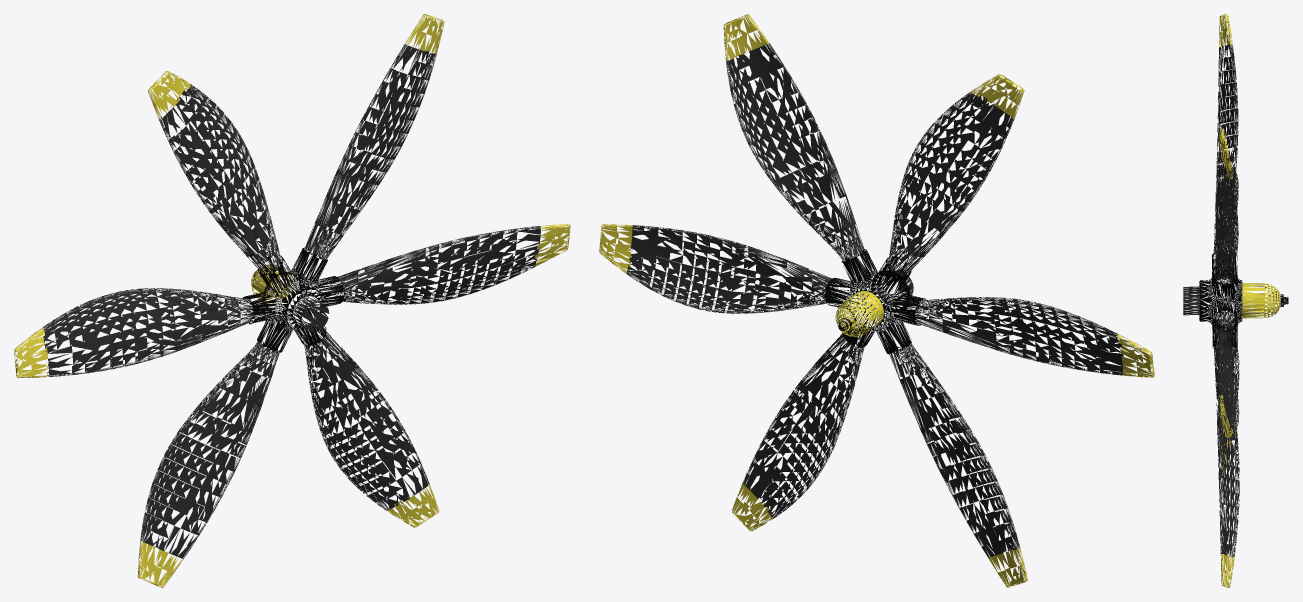
Rendered from propeller.gltf.
3 views of the same model, side by side, from view 1: azimuth 30°, elevation 25°; view 2: azimuth 150°, elevation 25°; view 3: azimuth 270°, elevation 25° (orthographic). The views are drawn at different scales.
Visible parts, largest first — view 1: Propeller from airboat; view 2: Propeller from airboat; view 3: Propeller from airboat.
Boxes of the visible parts, x1,y1,x2,y2 form: Propeller from airboat: [14, 14, 570, 587]; Propeller from airboat: [599, 14, 1154, 587]; Propeller from airboat: [1183, 14, 1288, 587].
Bounding box in the file's own units: 1.8 × 1.61 × 0.3302.
